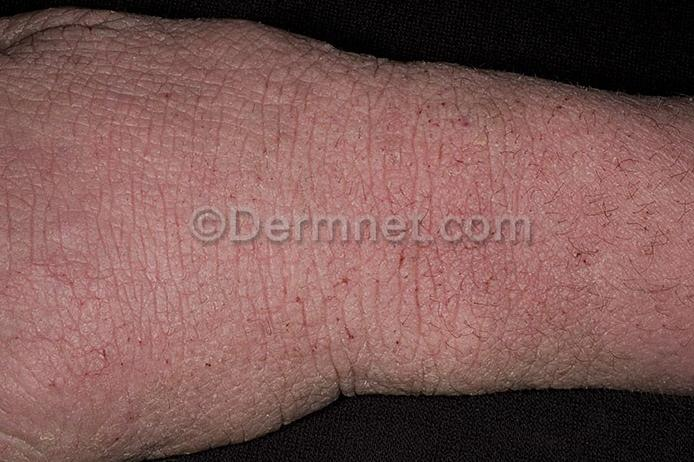liquenificacion 2: (0, 0, 694, 434)
xerosis 2: (0, 359, 694, 462)
